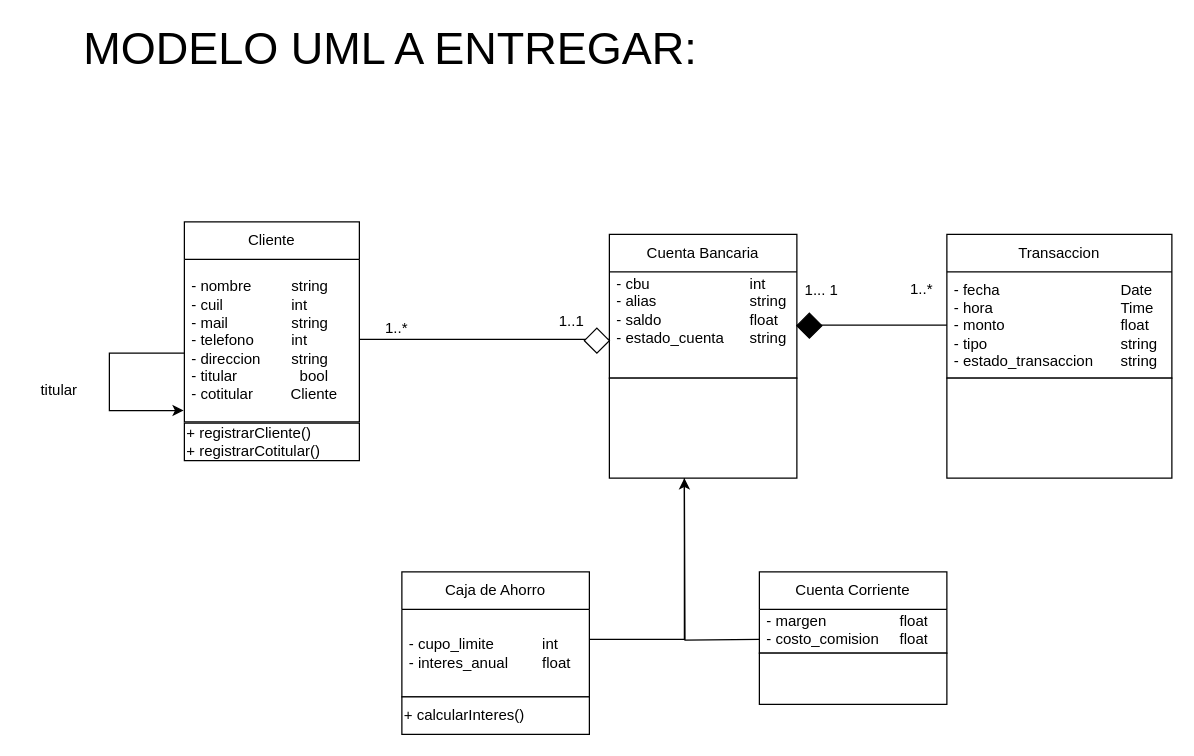
This 1194x756 diagram has some shape labels left out. The shapes that lost their labels are listed below. From the top down, each one's centre as x and y in pixels, then its label:
At (x=702, y=427): "+ depositar() + extraer() + transferir()".
At (x=1059, y=427): "+ consultarTranscciones()".
At (x=852, y=678): "+ calcularComision() + aplicarComision()".
